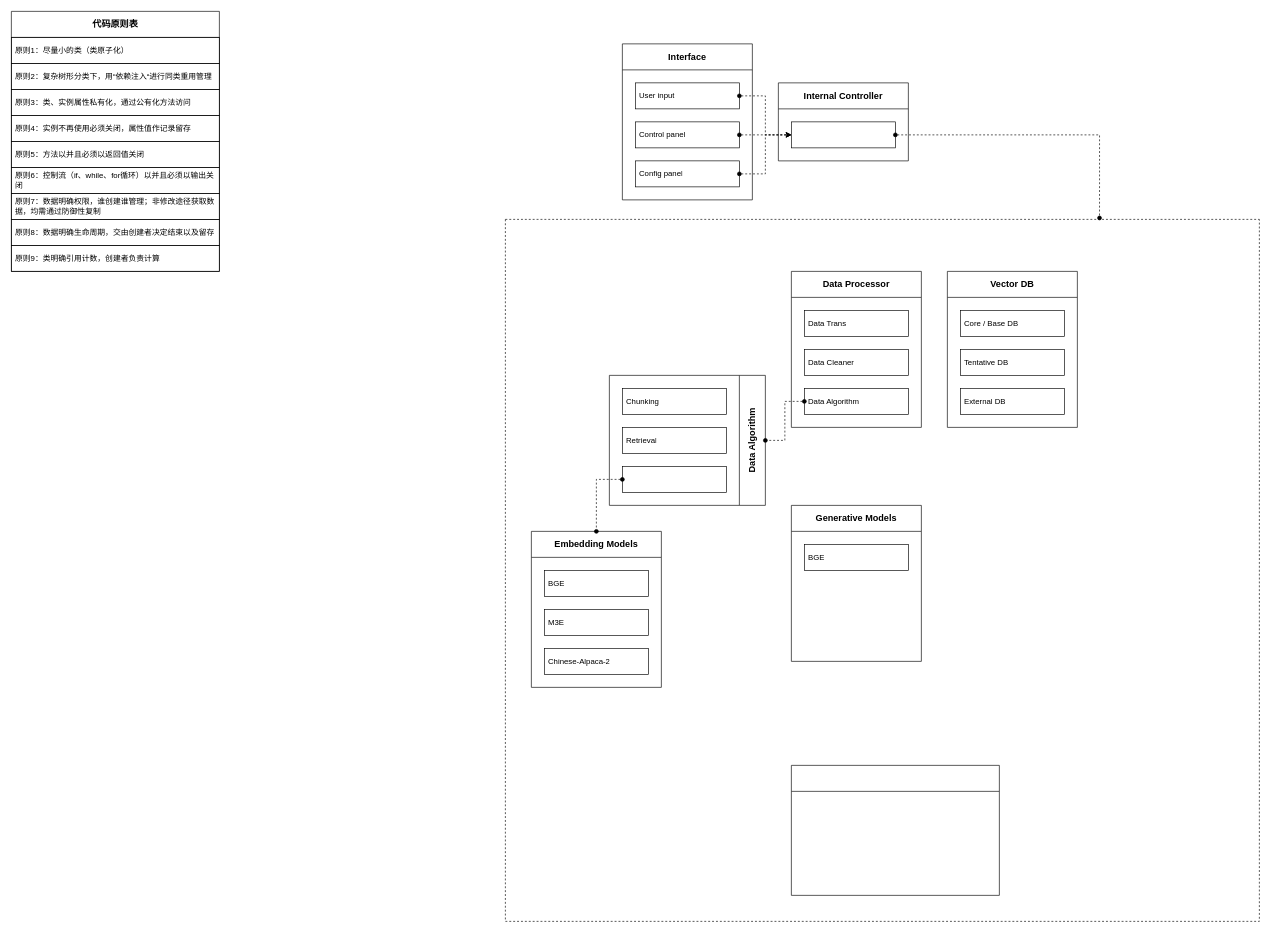
This 1271x933 diagram has some shape labels left out. The centre of each missing label's shape, as x and y in pixels:
"Embedding" belongs at [674,479].
"Logic Controller" belongs at [843,134].
"Vertical Container" belongs at [895,830].
